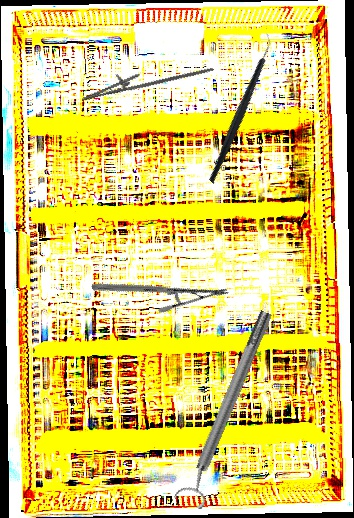Chopper: (163, 30, 315, 185)
Fixation Ring: (170, 306, 285, 511)
Needle Holder: (90, 230, 230, 349), (77, 42, 215, 117)
